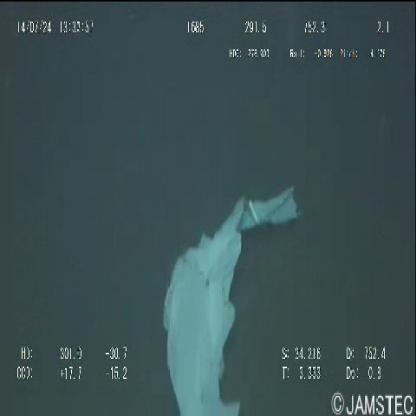Rác: (163, 185, 298, 415)
